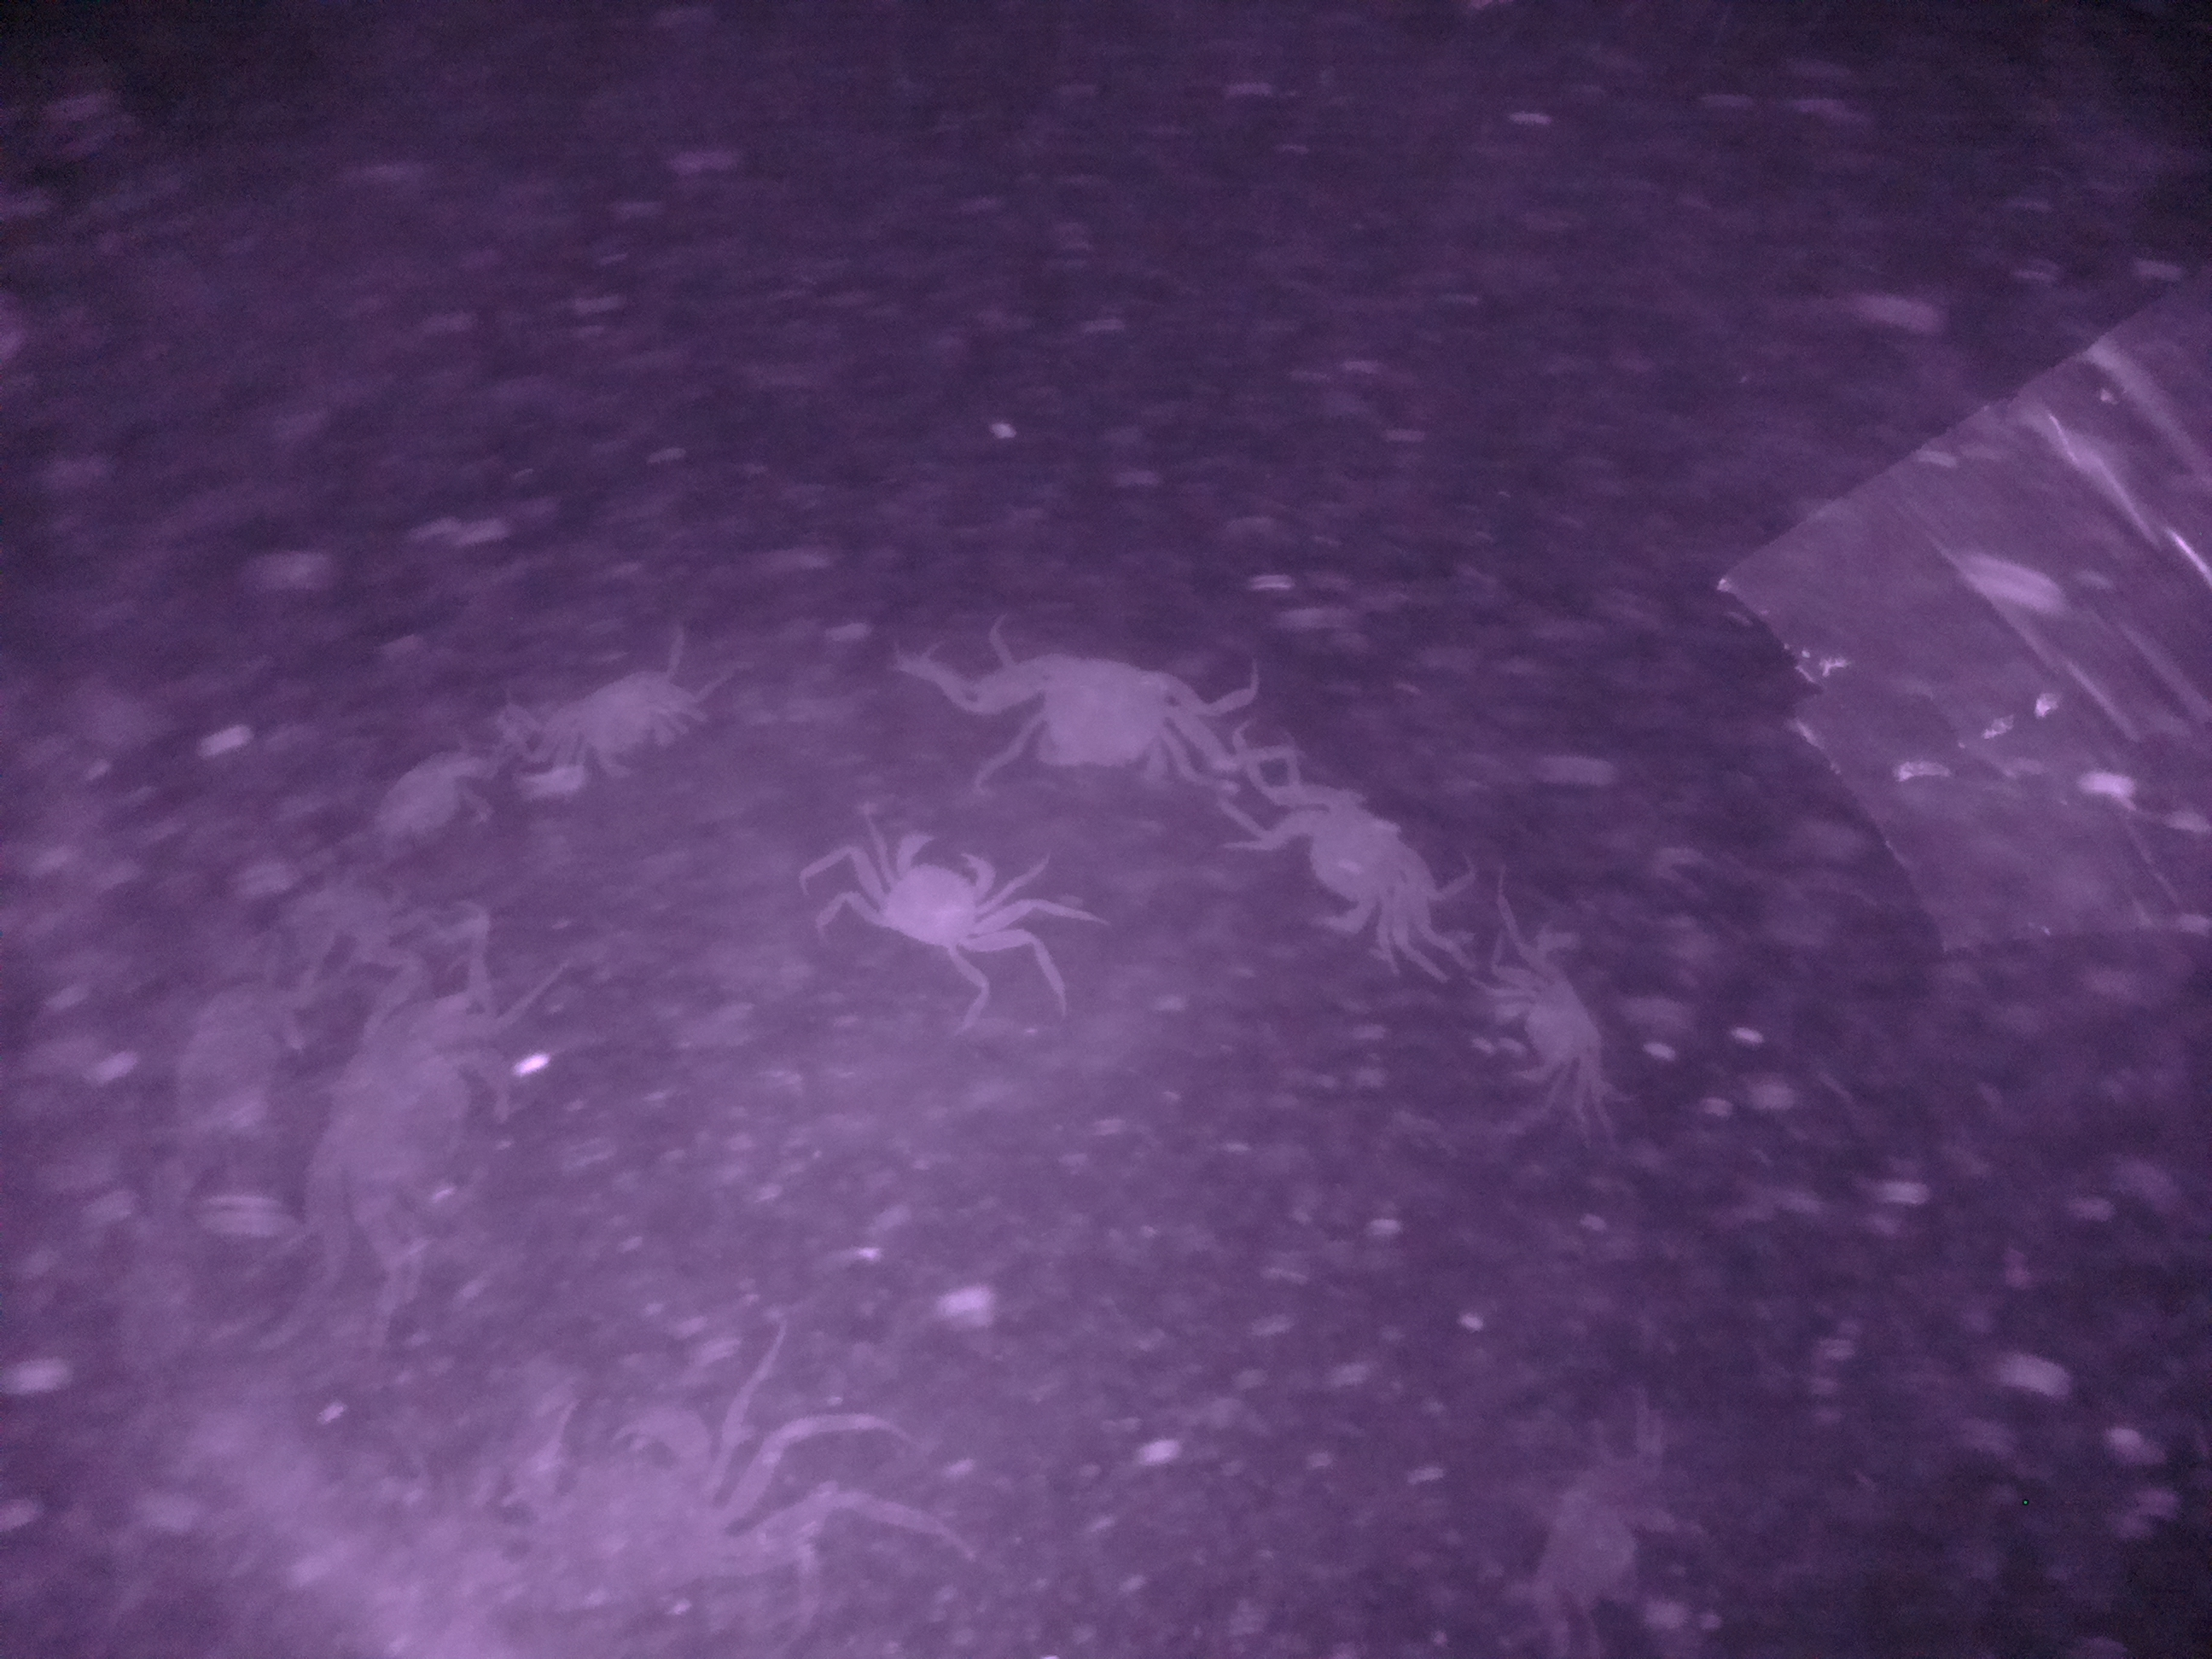Crab: (1242, 763, 1432, 948), (991, 638, 1204, 793), (1470, 931, 1630, 1112), (840, 826, 1021, 960)
